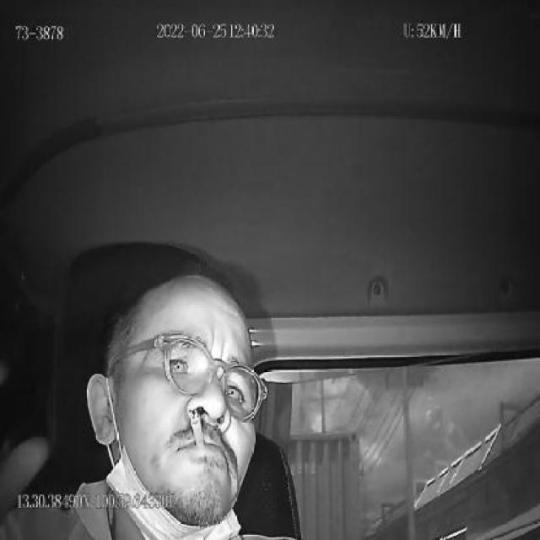smoking: (186, 410, 207, 448)
